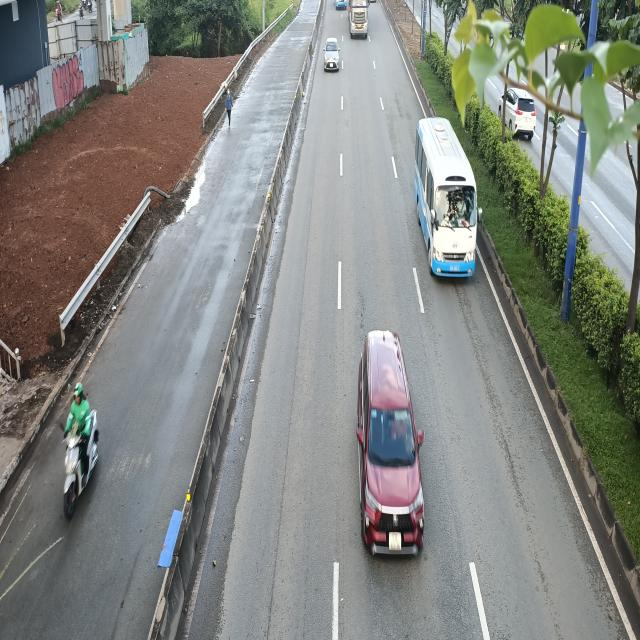car: (352, 335, 424, 556), (323, 37, 340, 72)
coach: (413, 118, 479, 280)
